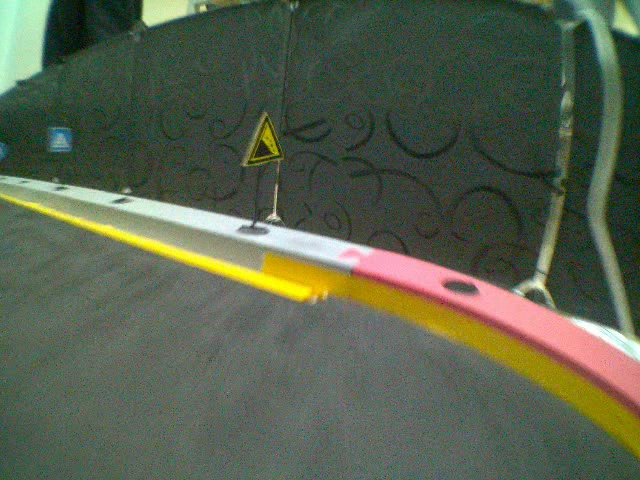fast: (243, 110, 287, 166)
